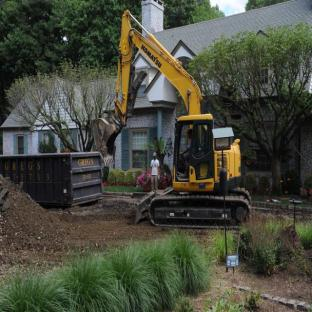ExcavationMachinery: (91, 11, 268, 235)
